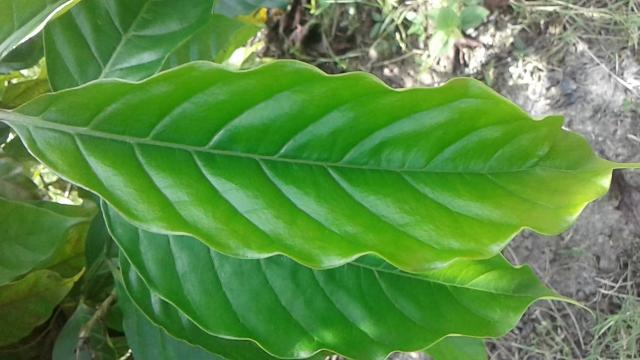healthy: (8, 54, 640, 275)
